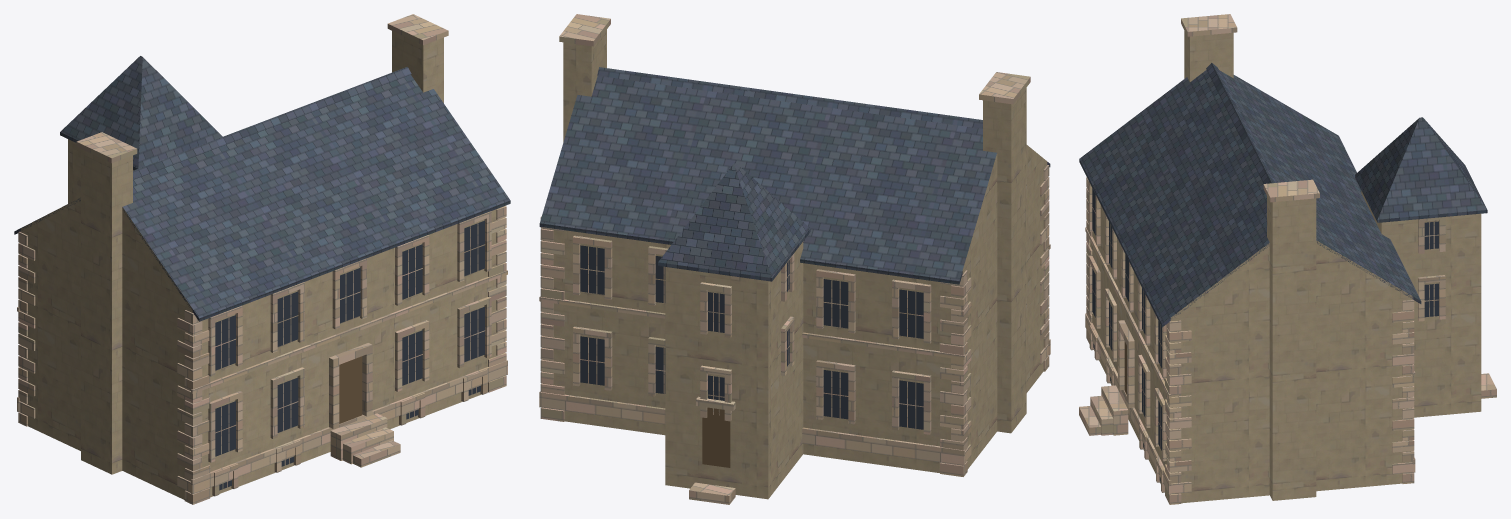
3 views of the same model, side by side, from view 1: azimuth 30°, elevation 25°; view 2: azimuth 150°, elevation 25°; view 3: azimuth 270°, elevation 25° (orthographic). The views are drawn at different scales.
Visible parts, largest first — view 1: rectory_wall, rectory_slate, rectory_dressed, rectory_glass, rectory_oak; view 2: rectory_wall, rectory_slate, rectory_dressed, rectory_glass, rectory_oak; view 3: rectory_wall, rectory_slate, rectory_dressed, rectory_glass.
Part boxes in pixels (left/top/right/bottom): rectory_wall: left=20, top=31, right=503, bottom=499; rectory_slate: left=14, top=56, right=510, bottom=321; rectory_dressed: left=17, top=14, right=507, bottom=504; rectory_glass: left=215, top=220, right=484, bottom=490; rectory_oak: left=339, top=356, right=362, bottom=423; rectory_wall: left=542, top=29, right=1047, bottom=499; rectory_slate: left=539, top=67, right=1050, bottom=284; rectory_dressed: left=539, top=14, right=1050, bottom=504; rectory_glass: left=580, top=245, right=923, bottom=429; rectory_oak: left=702, top=407, right=730, bottom=467; rectory_wall: left=1090, top=31, right=1481, bottom=503; rectory_slate: left=1079, top=63, right=1487, bottom=327; rectory_dressed: left=1079, top=14, right=1496, bottom=504; rectory_glass: left=1092, top=188, right=1438, bottom=482.
Size of the model in its own units: 15.05 by 11.28 by 14.02.
Materials: 5 (3 with a texture image).
